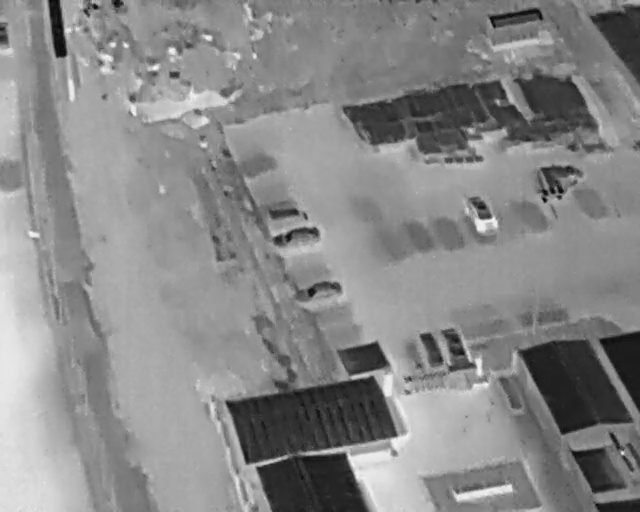Car: (461, 188, 502, 238), (270, 221, 321, 252), (293, 275, 344, 306), (439, 325, 470, 368), (417, 328, 446, 369), (266, 208, 308, 225)
